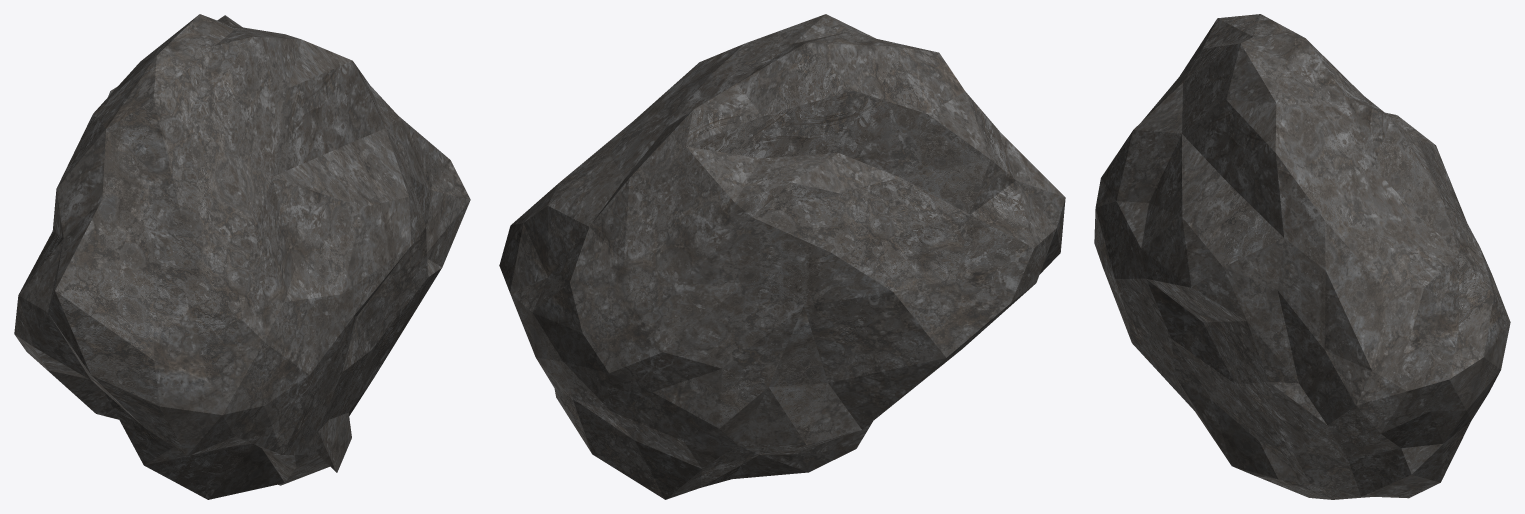
File: SNSS_Lmain_Asteroid002.fbx
3 views of the same model, side by side, from view 1: azimuth 30°, elevation 25°; view 2: azimuth 150°, elevation 25°; view 3: azimuth 270°, elevation 25° (orthographic). The views are drawn at different scales.
Parts seen in each view (by area): view 1: Asteriod_02, Asteriod_003_Part_2, Asteriod_003_Part_18, Asteriod_003_Part_20, Asteriod_003_Part_14, Asteriod_003_Part_10, Asteriod_003_Part_4, Asteriod_003_Part_16, Asteriod_003_Part_8, Asteriod_003_Part_9, Asteriod_003_Part_13, Asteriod_003_Part_3 (+2 smaller); view 2: Asteriod_02, Asteriod_003_Part_18, Asteriod_003_Part_12, Asteriod_003_Part_5, Asteriod_003_Part_3, Asteriod_003_Part_7, Asteriod_003_Part_8, Asteriod_003_Part_15, Asteriod_003_Part_20, Asteriod_003_Part_11, Asteriod_003_Part_1, Asteriod_003_Part_16; view 3: Asteriod_02, Asteriod_003_Part_20, Asteriod_003_Part_2, Asteriod_003_Part_11, Asteriod_003_Part_7, Asteriod_003_Part_17, Asteriod_003_Part_15, Asteriod_003_Part_8, Asteriod_003_Part_10, Asteriod_003_Part_1, Asteriod_003_Part_4, Asteriod_003_Part_13 (+2 smaller).
Boxes of the visible parts, box(x1,y1,x2,y2) form: Asteriod_02: box(14, 14, 470, 499); Asteriod_003_Part_2: box(241, 151, 412, 326); Asteriod_003_Part_18: box(15, 65, 191, 350); Asteriod_003_Part_20: box(194, 30, 408, 197); Asteriod_003_Part_14: box(47, 210, 279, 454); Asteriod_003_Part_10: box(241, 211, 354, 454); Asteriod_003_Part_4: box(159, 84, 245, 217); Asteriod_003_Part_16: box(140, 449, 336, 499); Asteriod_003_Part_8: box(131, 14, 251, 79); Asteriod_003_Part_9: box(228, 402, 345, 467); Asteriod_003_Part_13: box(218, 446, 345, 497); Asteriod_003_Part_3: box(25, 348, 169, 458); Asteriod_02: box(499, 14, 1065, 499); Asteriod_003_Part_18: box(854, 43, 1057, 339); Asteriod_003_Part_12: box(682, 191, 881, 329); Asteriod_003_Part_5: box(612, 302, 806, 445); Asteriod_003_Part_3: box(782, 311, 967, 449); Asteriod_003_Part_7: box(511, 184, 668, 385); Asteriod_003_Part_8: box(674, 32, 901, 264); Asteriod_003_Part_15: box(608, 100, 692, 307); Asteriod_003_Part_20: box(658, 14, 846, 103); Asteriod_003_Part_11: box(500, 204, 559, 374); Asteriod_003_Part_1: box(555, 386, 698, 489); Asteriod_003_Part_16: box(692, 438, 859, 472); Asteriod_02: box(1094, 14, 1510, 499); Asteriod_003_Part_20: box(1191, 35, 1348, 269); Asteriod_003_Part_2: box(1137, 99, 1212, 313); Asteriod_003_Part_11: box(1269, 287, 1481, 473); Asteriod_003_Part_7: box(1335, 206, 1500, 397); Asteriod_003_Part_17: box(1189, 259, 1304, 417); Asteriod_003_Part_15: box(1291, 140, 1465, 293); Asteriod_003_Part_8: box(1235, 14, 1463, 214); Asteriod_003_Part_10: box(1102, 128, 1189, 391); Asteriod_003_Part_1: box(1240, 410, 1461, 498); Asteriod_003_Part_4: box(1155, 37, 1227, 109); Asteriod_003_Part_13: box(1228, 459, 1408, 499).
Size of the model in its own units: 813 by 742 by 657.
